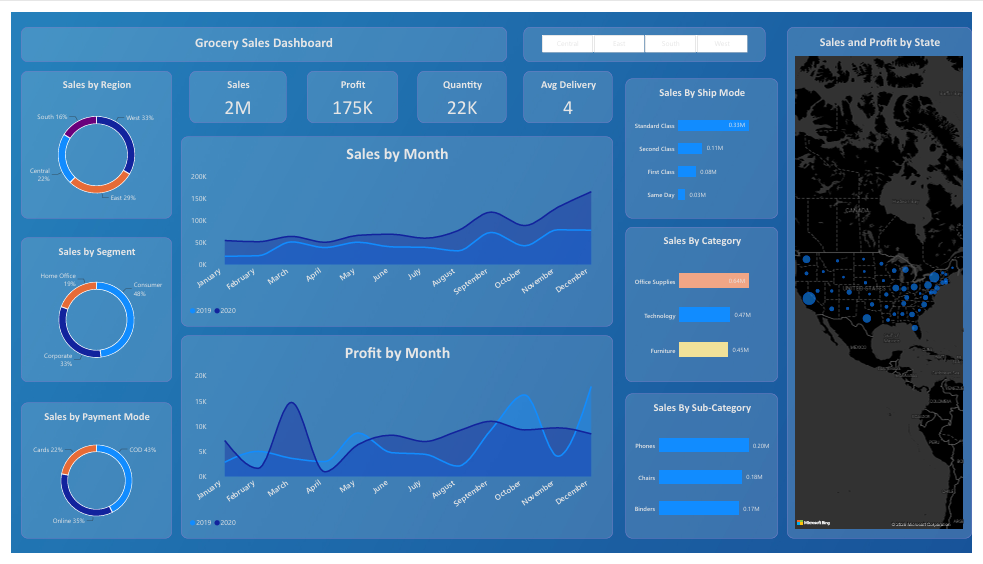

The dashboard page shown, as its layout file describes it:
{"tool":"powerbi","page":{"name":"Page 1","canvas":[1920,1080],"ordinal":0},"visuals":[{"type":"clusteredBarChart","title":"Sales By Category","fields":{"Category":["Sheet1.Category"],"Y":["Sum(Sheet1.Sales)"]},"box":[1227.1,428.3,304.9,309.9],"z":0},{"type":"clusteredBarChart","title":"Sales By Sub-Category","fields":{"Category":["Sheet1.Sub-Category"],"Y":["Sum(Sheet1.Sales)"]},"box":[1227.1,760.9,304.9,289.8],"z":1000},{"type":"clusteredBarChart","title":"Sales By Ship Mode","fields":{"Category":["Sheet1.Ship Mode"],"Y":["Sum(Sheet1.Sales)"]},"box":[1227.1,131,304.9,279.7],"z":2000},{"type":"areaChart","title":"Sales by Month","fields":{"Category":["Sheet1.Order Date.Variation.Date Hierarchy.Year","Sheet1.Order Date.Variation.Date Hierarchy.Month"],"Y":["Sum(Sheet1.Sales)"],"Series":["Sheet1.Order Date.Variation.Date Hierarchy.Year"]},"box":[337.6,246.9,864.3,380.5],"z":3000},{"type":"map","title":"Sales and Profit by State","fields":{"Category":["Sheet1.State"],"Size":["Sum(Sheet1.Sales)"]},"box":[1549.6,27.7,370.4,1023],"z":4000},{"type":"donutChart","title":"Sales by Segment","fields":{"Category":["Sheet1.Segment"],"Y":["Sum(Sheet1.Sales)"]},"box":[17.6,448.5,302.4,289.8],"z":5000},{"type":"donutChart","title":"Sales by Region","fields":{"Y":["Sum(Sheet1.Sales)"],"Category":["Sheet1.Region"]},"box":[17.6,115.9,302.4,294.8],"z":6000},{"type":"donutChart","title":"Sales by Payment Mode","fields":{"Y":["Sum(Sheet1.Sales)"],"Category":["Sheet1.Payment Mode"]},"box":[17.6,778.6,302.4,272.1],"z":7000},{"type":"slicer","fields":{"Values":["Sheet1.Region"]},"box":[1023,27.7,484,70],"z":8000},{"type":"areaChart","title":"Profit by Month","fields":{"Category":["Sheet1.Order Date.Variation.Date Hierarchy.Year","Sheet1.Order Date.Variation.Date Hierarchy.Month"],"Series":["Sheet1.Order Date.Variation.Date Hierarchy.Year"],"Y":["Sum(Sheet1.Profit)"]},"box":[337.6,645,864.3,405.7],"z":9000},{"type":"textbox","box":[17.6,27.7,972.6,70.6],"z":10000},{"type":"cardVisual","title":"Sales","fields":{"Data":["Sum(Sheet1.Sales)"]},"box":[355.3,115.9,194,104],"z":11000},{"type":"cardVisual","title":"Profit","fields":{"Data":["Sum(Sheet1.Profit)"]},"box":[589.6,115.9,182,104],"z":12000},{"type":"cardVisual","title":"Quantity","fields":{"Data":["Sum(Sheet1.Quantity)"]},"box":[811.3,115.9,178,104],"z":13000},{"type":"cardVisual","title":"Avg Delivery","fields":{"Data":["Avg(Sheet1.Average Delivery)"]},"box":[1023,115.9,178,104],"z":14000}]}

Visuals, with their boxes in screenshot pixels (x1, y1, x2, y2), scaled from the page's 1920x1080 canvas onto the 983x564 screenshot:
"Sales By Category" clusteredBarChart: locate(628, 224, 784, 386)
"Sales By Sub-Category" clusteredBarChart: locate(628, 397, 784, 549)
"Sales By Ship Mode" clusteredBarChart: locate(628, 68, 784, 214)
"Sales by Month" areaChart: locate(173, 129, 615, 328)
"Sales and Profit by State" map: locate(793, 14, 982, 549)
"Sales by Segment" donutChart: locate(9, 234, 164, 386)
"Sales by Region" donutChart: locate(9, 61, 164, 214)
"Sales by Payment Mode" donutChart: locate(9, 407, 164, 549)
slicer - Sheet1.Region: locate(524, 14, 772, 51)
"Profit by Month" areaChart: locate(173, 337, 615, 549)
textbox: locate(9, 14, 507, 51)
"Sales" cardVisual: locate(182, 61, 281, 115)
"Profit" cardVisual: locate(302, 61, 395, 115)
"Quantity" cardVisual: locate(415, 61, 507, 115)
"Avg Delivery" cardVisual: locate(524, 61, 615, 115)
